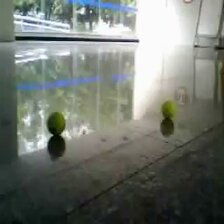tennis: (46, 112, 66, 135), (161, 101, 175, 117)
